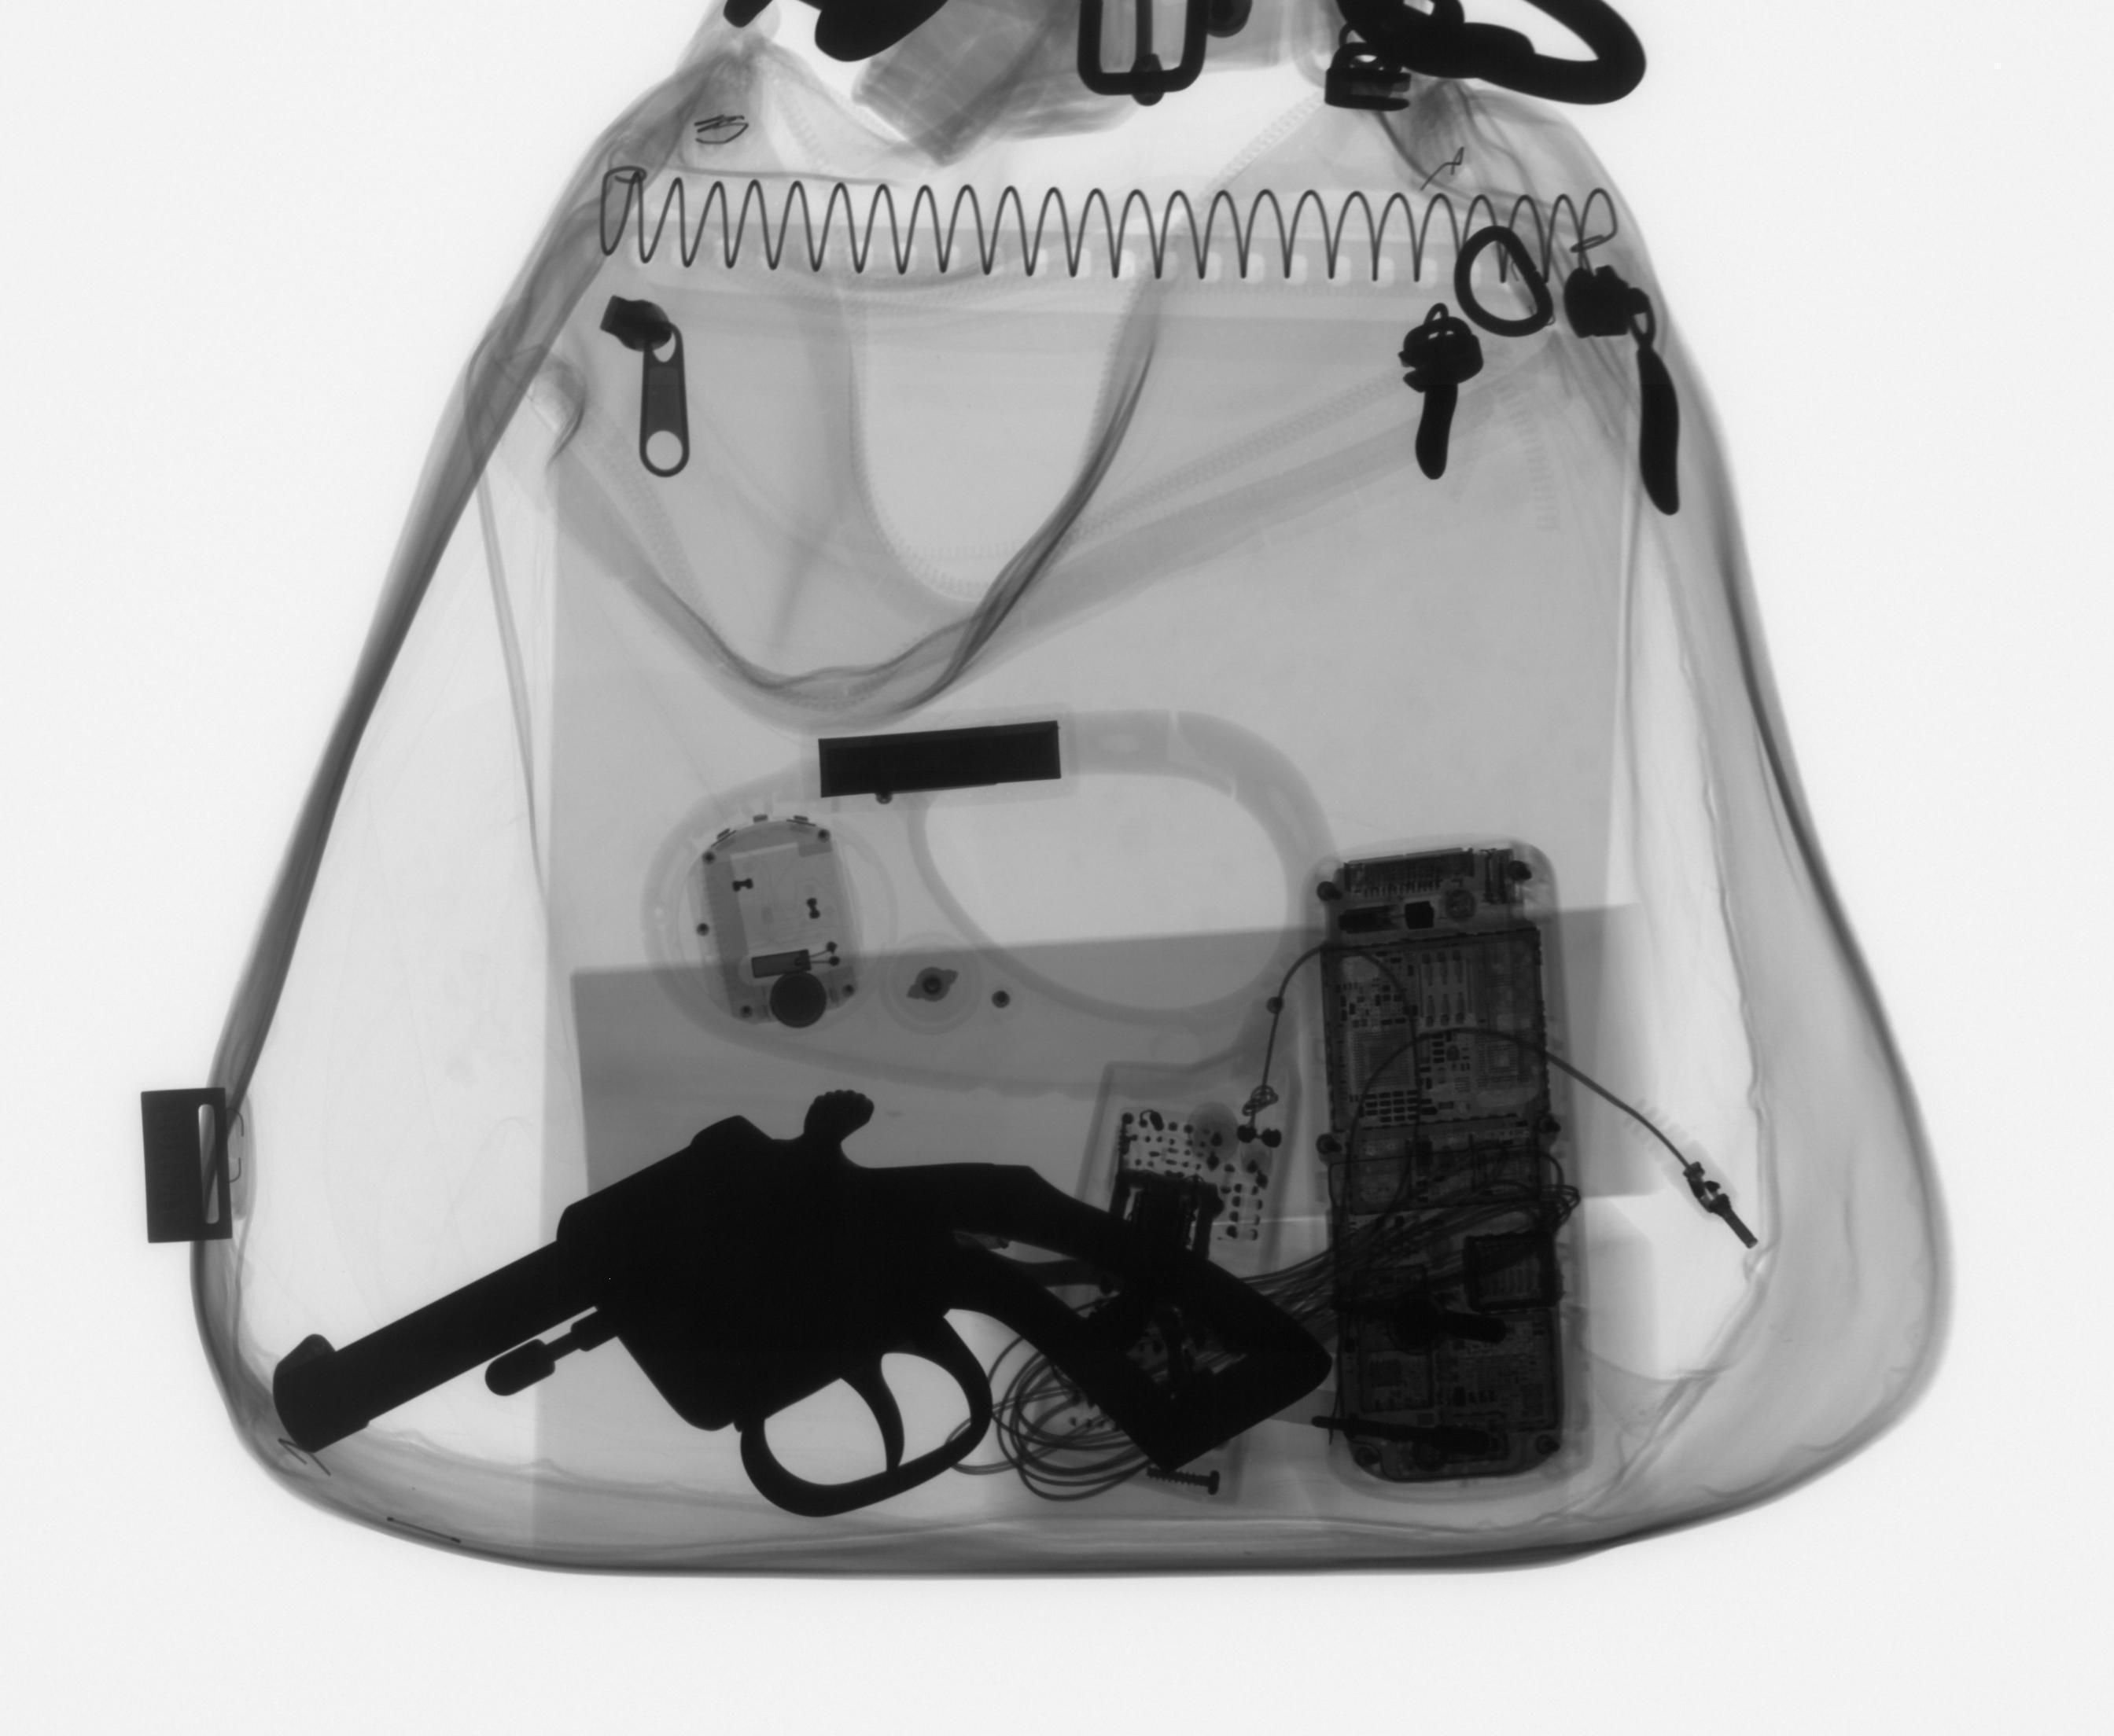Handgun: (267, 1080, 1339, 1526)
